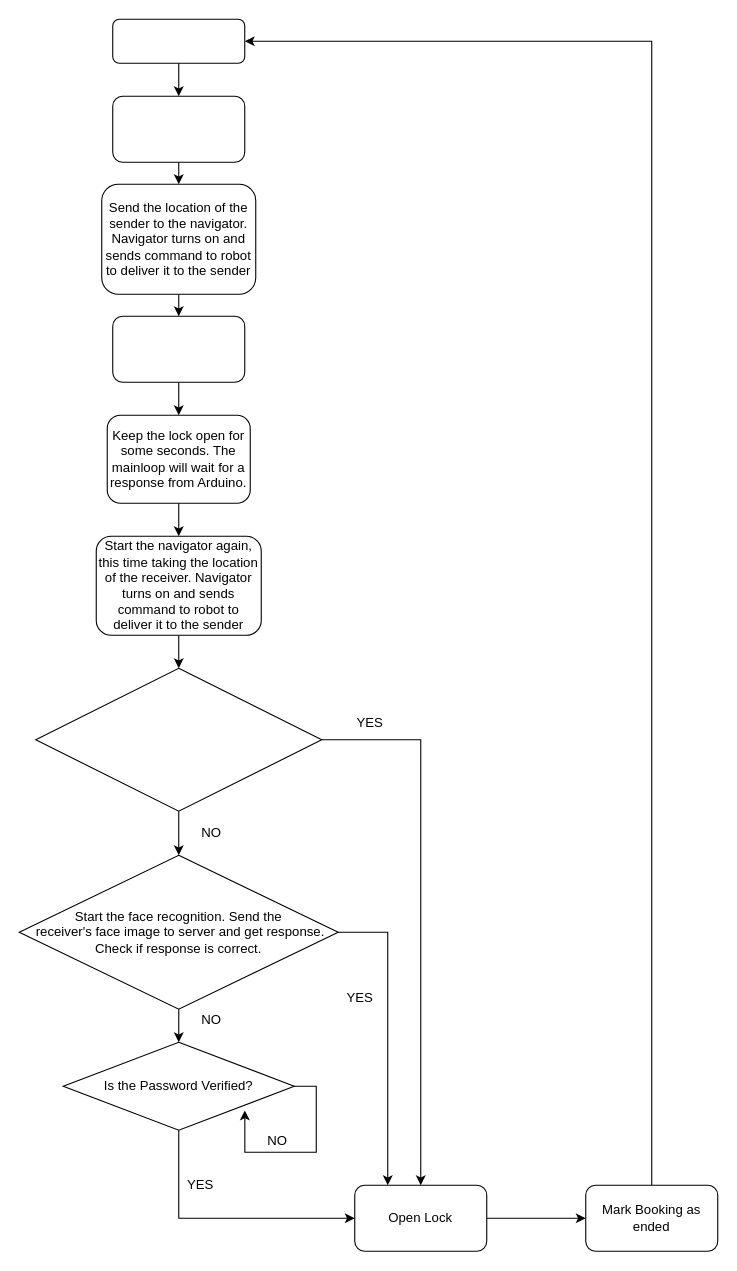
This 737x1271 diagram has some shape labels left out. Here are the shapes that lost their labels. From the top down, the centre of each, then its label:
At (x=178, y=40): "Get the booking that is on top of the queue".
At (x=178, y=128): "Get the details from the booking, e.g. name, location".
At (x=178, y=348): "Open the box lock by communicating serially with Arduino".
At (x=178, y=739): "Once reached, check if the password has been entered into the app and validated.".
